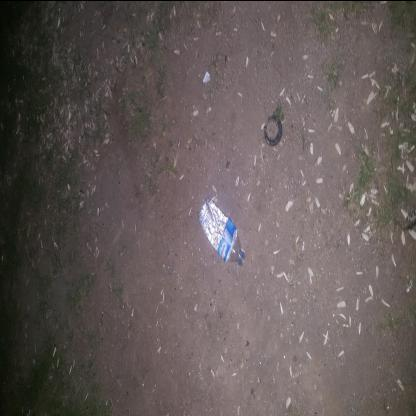plastik: (151, 199, 221, 247), (272, 266, 303, 284)
